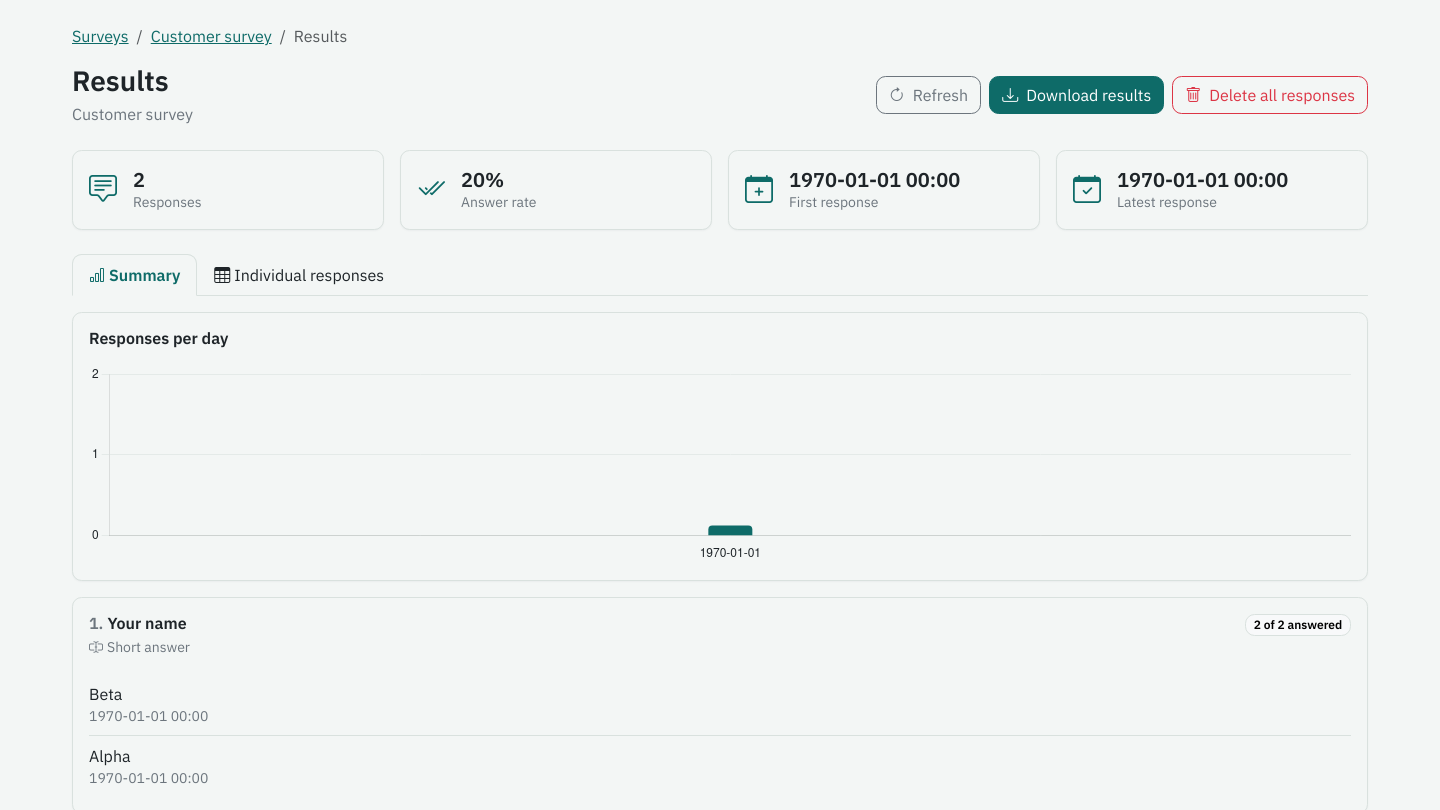
Test: SurveyResults download dialog › Cancel closes the dialog without downloading
Expected: the heading "1.Your name" is shown, [89,614,190,633]
Click the button "Download results" at (1077, 95), box [989,76,1164,114]
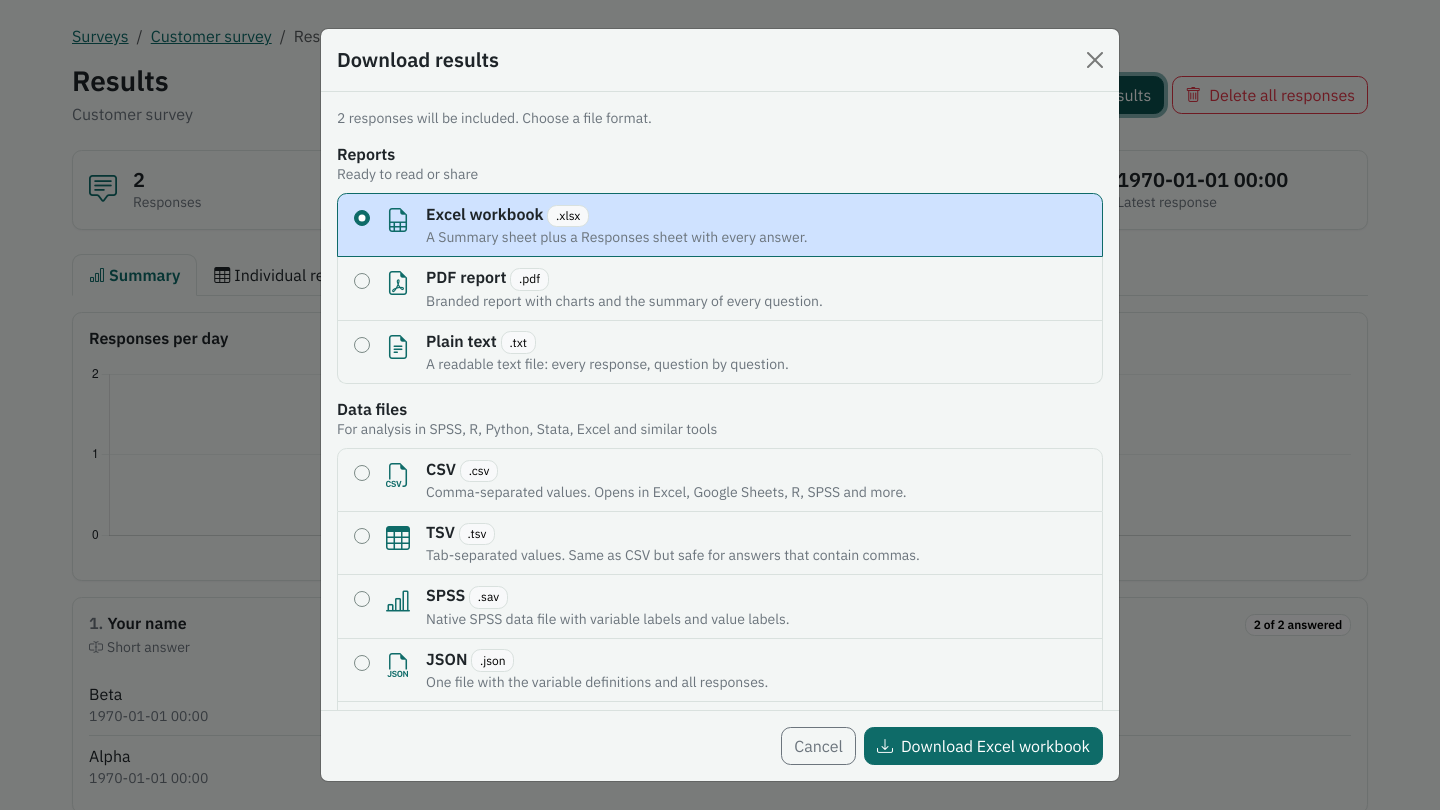
Click the button "Cancel" at (819, 746), box [781,727,856,765]
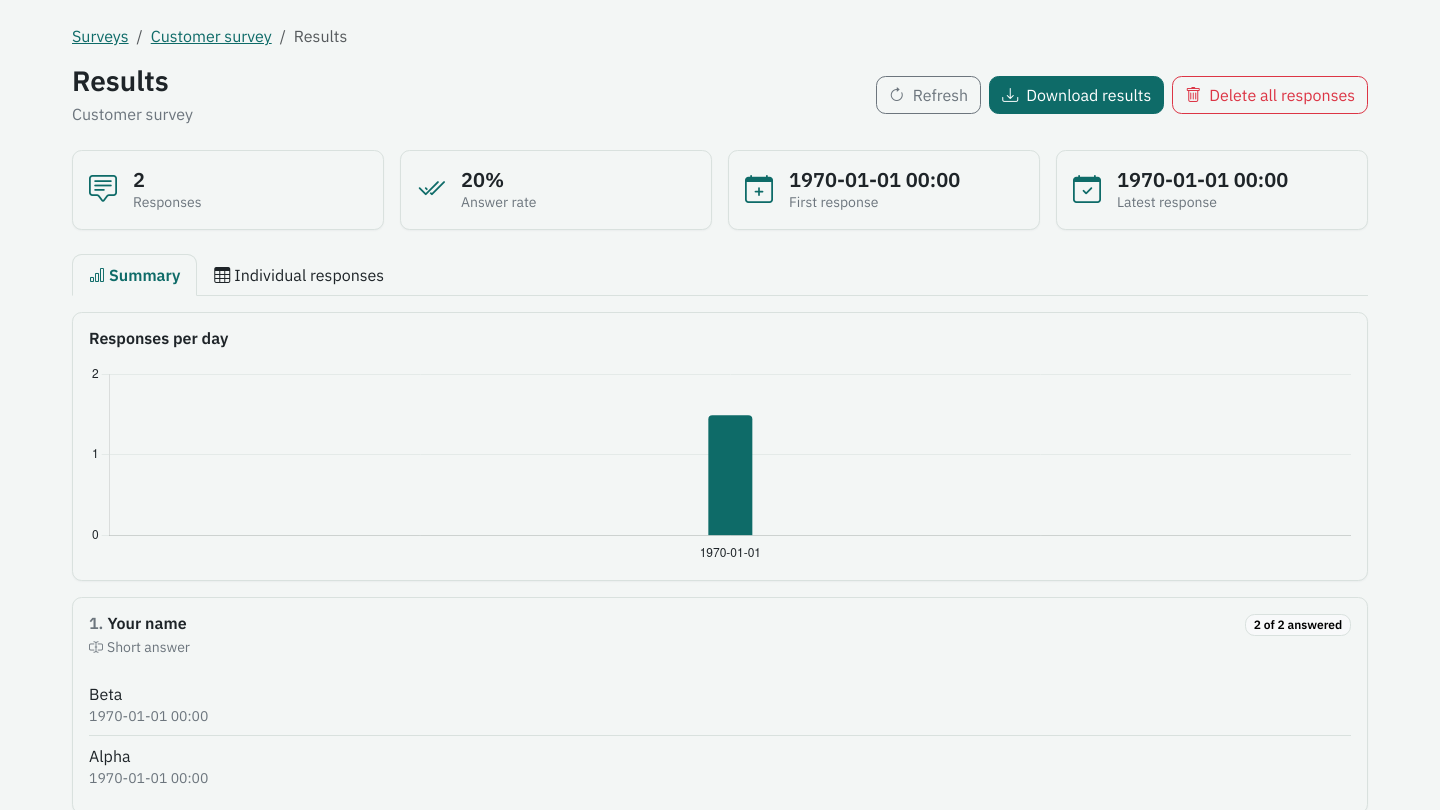
Expected: the dialog is gone
